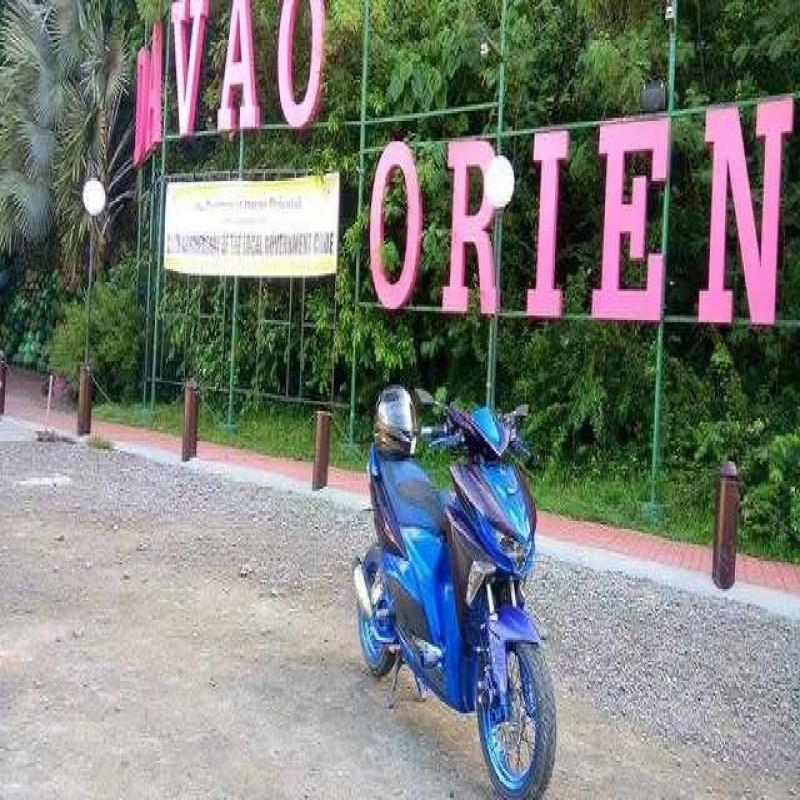bike: (351, 375, 561, 800)
